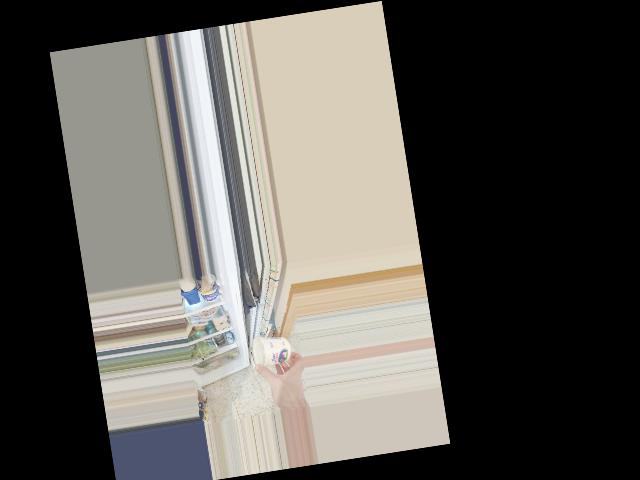cotage: (250, 332, 294, 369)
